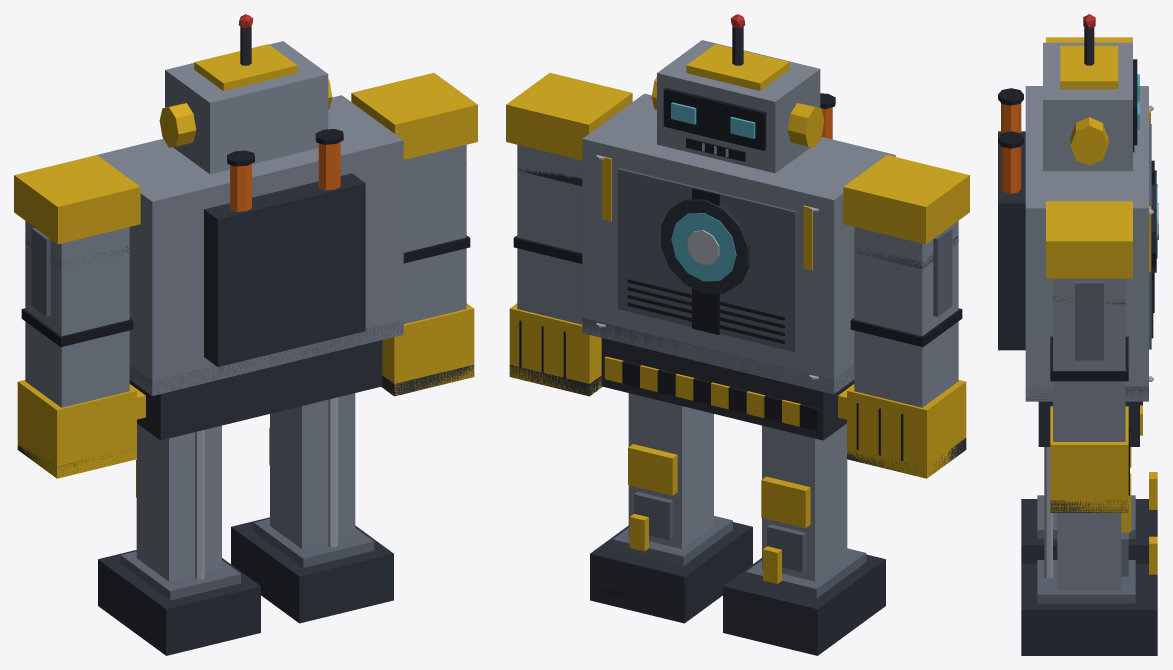
File: Decor_RobotFactory_GiantRobot.fbx
3 views of the same model, side by side, from view 1: azimuth 30°, elevation 25°; view 2: azimuth 150°, elevation 25°; view 3: azimuth 270°, elevation 25° (orthographic).
Visible parts, largest first — view 1: GiantRobot_Body; view 2: GiantRobot_Body; view 3: GiantRobot_Body.
Boxes of the visible parts, <box> form: GiantRobot_Body: <box>14,14,477,655</box>; GiantRobot_Body: <box>506,14,969,655</box>; GiantRobot_Body: <box>998,14,1158,655</box>.
Bounding box in the file's own units: 28.2 × 37.8 × 9.4.
